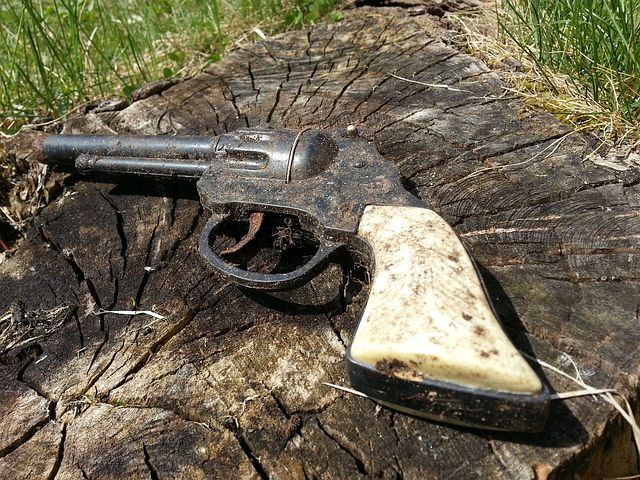gun: (35, 125, 558, 438)
